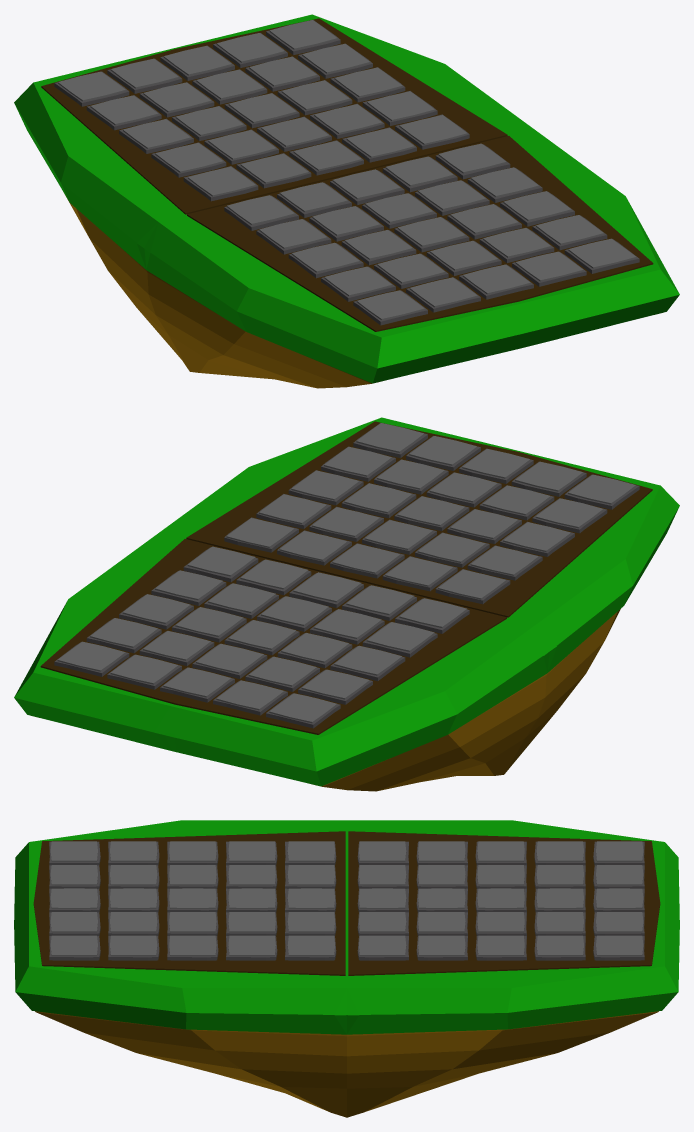
The model's file is MainMap.fbx.
3 renders of one model, top to bottom at view 1: azimuth 30°, elevation 25°; view 2: azimuth 150°, elevation 25°; view 3: azimuth 270°, elevation 25°, orthographic. The views are drawn at different scales.
Visible parts, largest first — view 1: Cube, Cube.002, Cube.001, Cube.003, Cube.024; view 2: Cube, Cube.002, Cube.001, Cube.003, Cube.024; view 3: Cube.002, Cube, Cube.024, Cube.003, Cube.001.
Boxes of the visible parts, x1,y1,x2,y2 form: Cube: (58,20,636,320); Cube.002: (14,14,679,383); Cube.001: (54,20,639,325); Cube.003: (41,18,653,331); Cube.024: (65,195,378,388); Cube: (57,423,635,723); Cube.002: (14,417,679,786); Cube.001: (54,423,639,728); Cube.003: (40,421,652,734); Cube.024: (315,609,620,791); Cube.002: (14,820,679,1034); Cube: (50,841,643,956); Cube.024: (35,1011,658,1117); Cube.003: (33,831,660,975); Cube.001: (49,841,644,960).
Size of the model in its own units: 1887 by 727 by 2931.
